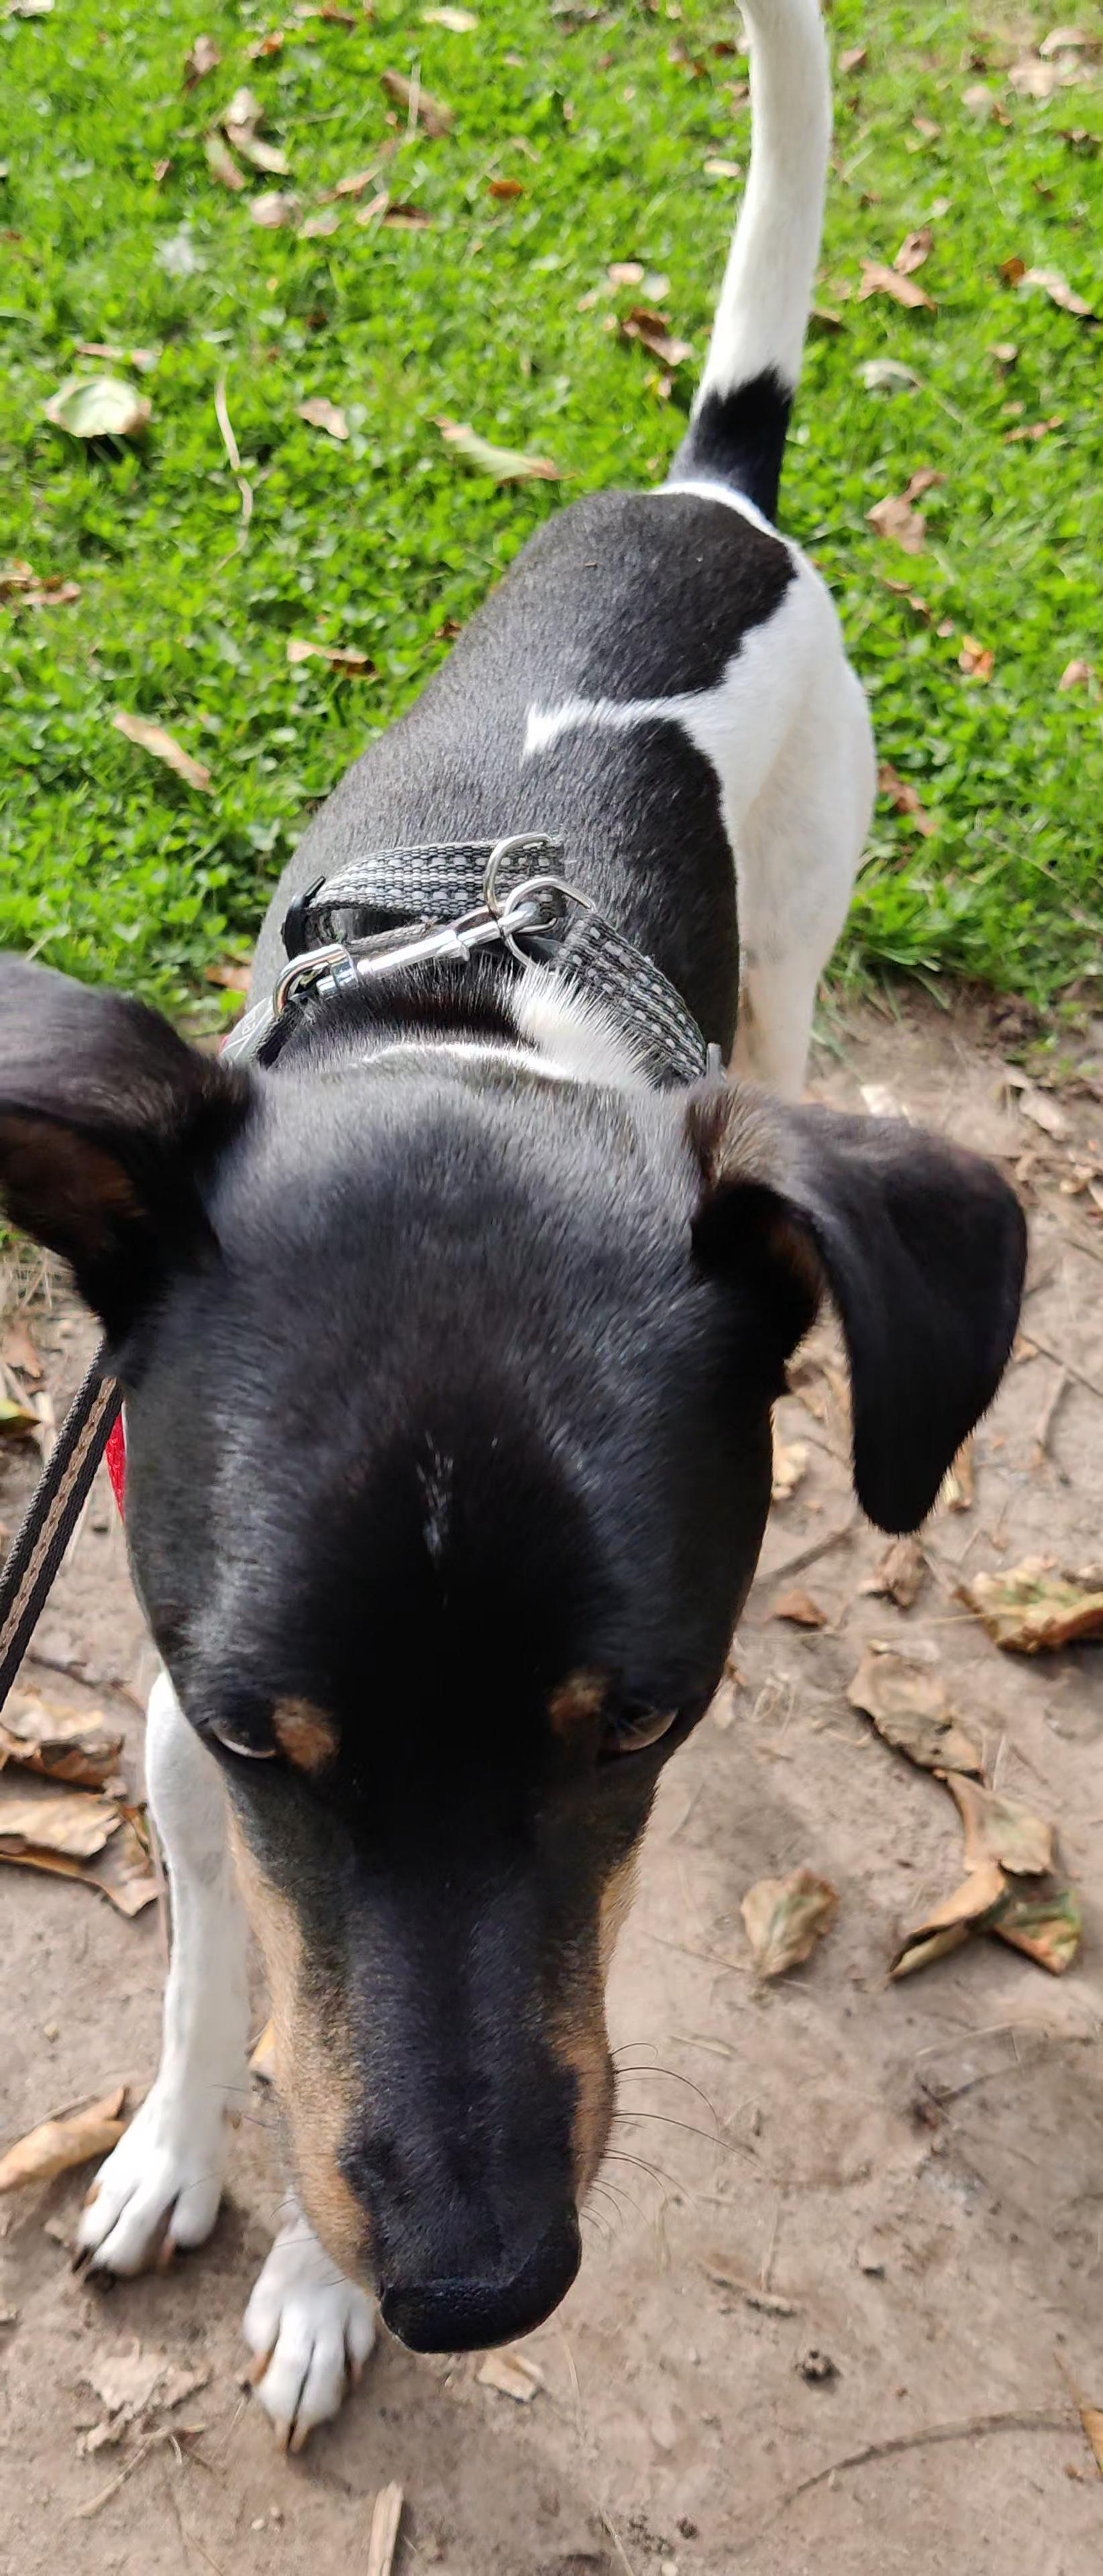Dog: (0, 0, 1039, 2469)
